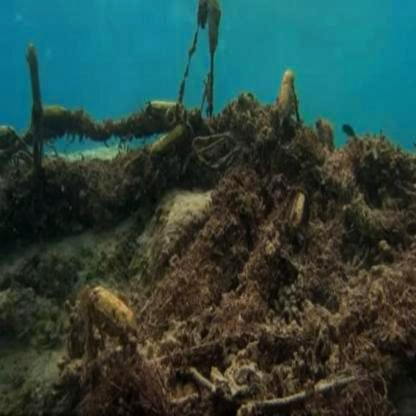net: (139, 115, 411, 392)
